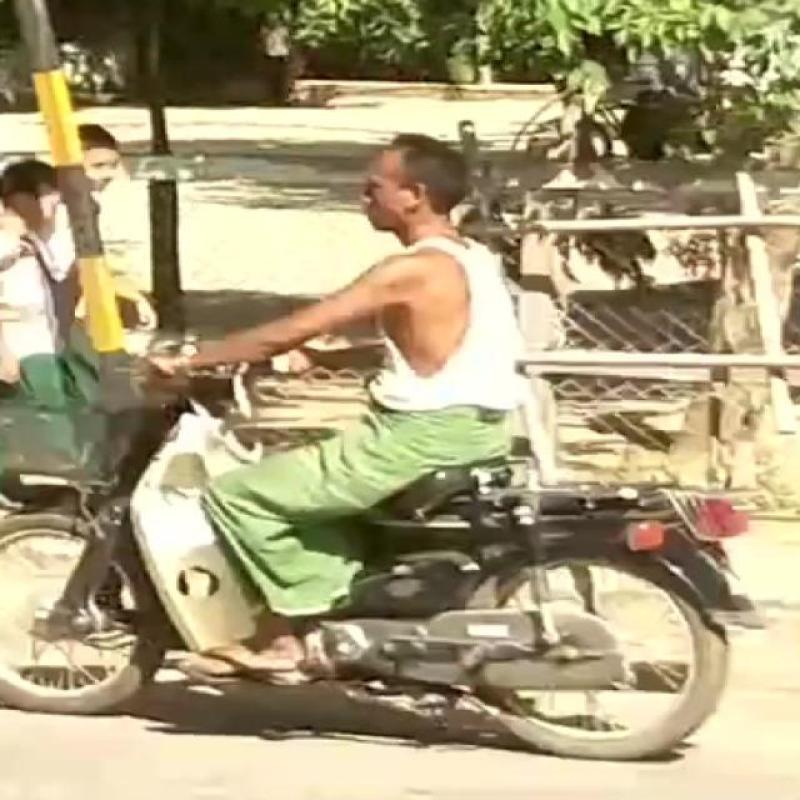nohelmet: (342, 119, 489, 240)
